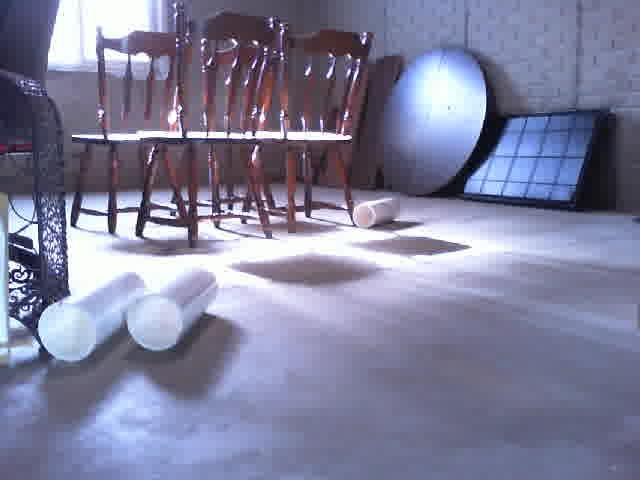coral: (43, 273, 141, 363), (131, 274, 218, 349), (354, 199, 399, 226)
